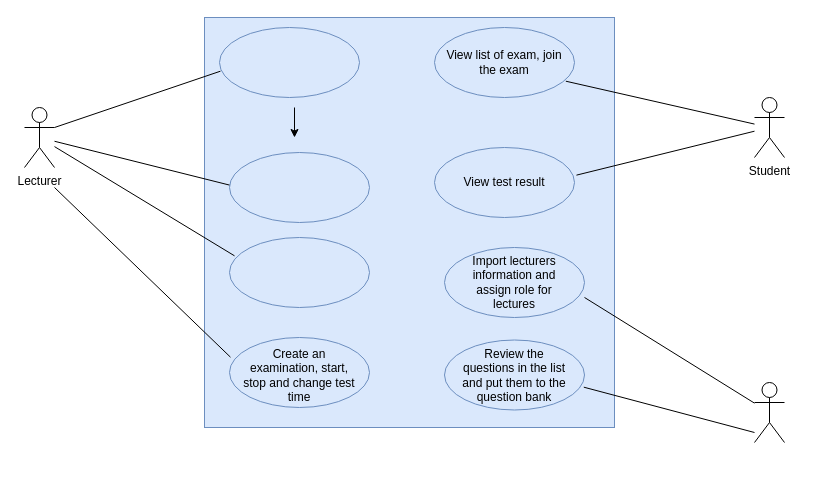
The diagram is 829 pixels wide and 481 high, and some of its shapes have lost their labels. Each missing label, with the centre of its shape:
"Assign class to exam" belongs at [299,272].
"Import student list from FAP, excel" belongs at [289,62].
"Lecturer Leader" belongs at [769,412].
"Manage student's questions and progress tests" belongs at [299,187].
